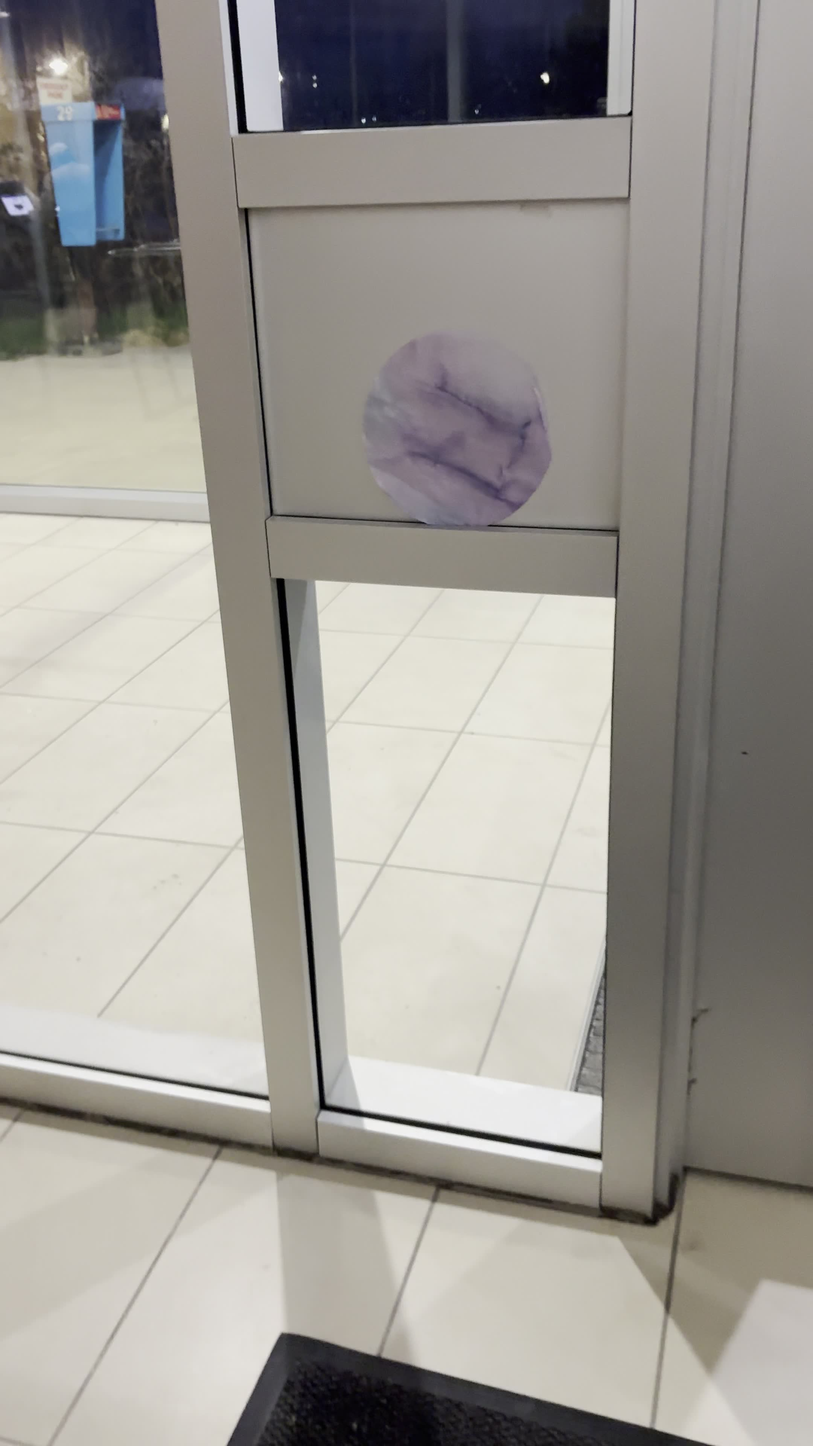Target: (357, 327, 556, 533)
